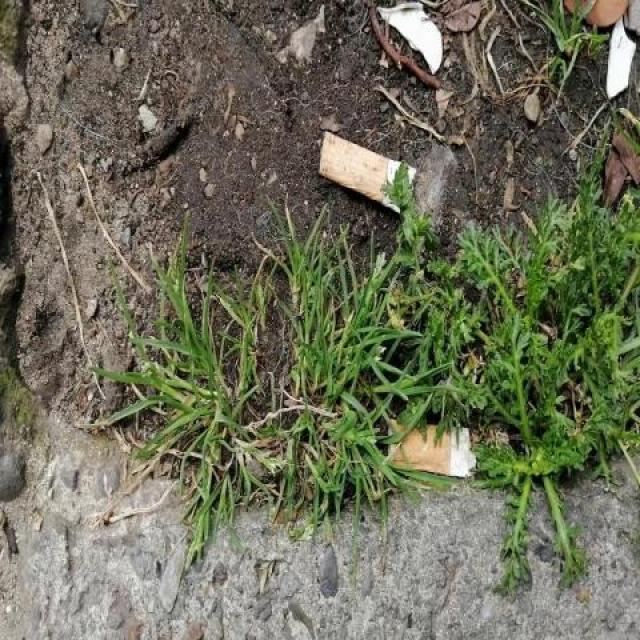non-organic waste: (314, 126, 422, 218), (383, 411, 481, 489)
